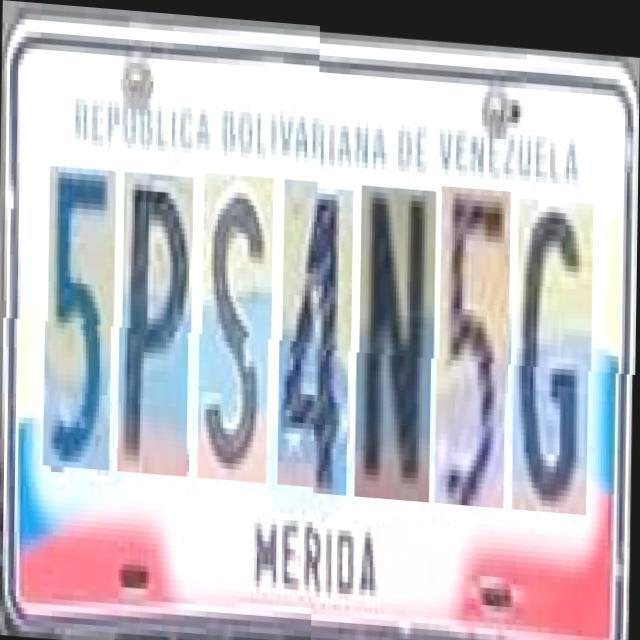4: (282, 180, 354, 490)
5: (438, 178, 512, 500), (47, 170, 116, 474)
G: (516, 190, 594, 506)
N: (359, 179, 437, 495)
P: (122, 176, 194, 480)
S: (202, 175, 274, 484)
